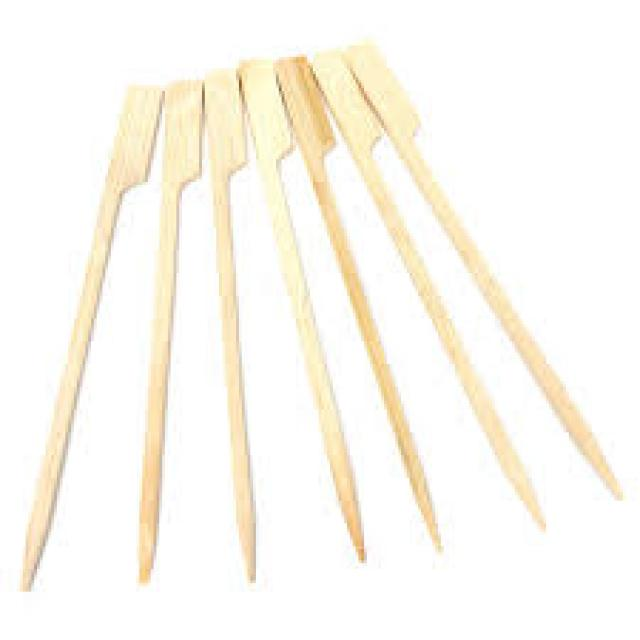stick: (348, 46, 622, 498), (314, 54, 538, 503), (278, 58, 439, 551), (28, 88, 157, 591), (241, 61, 369, 566), (139, 81, 201, 583), (205, 70, 255, 595)
